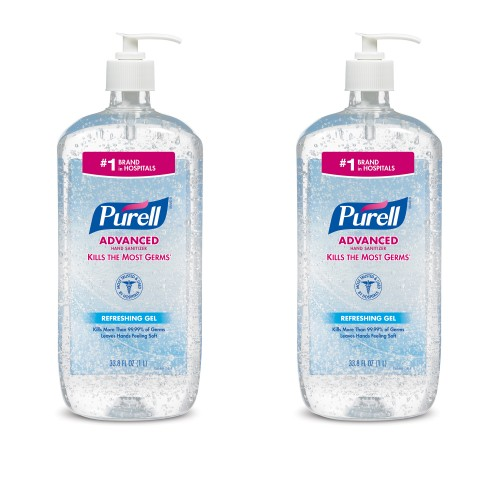Sanitizer: (290, 29, 452, 424), (55, 28, 208, 423)
